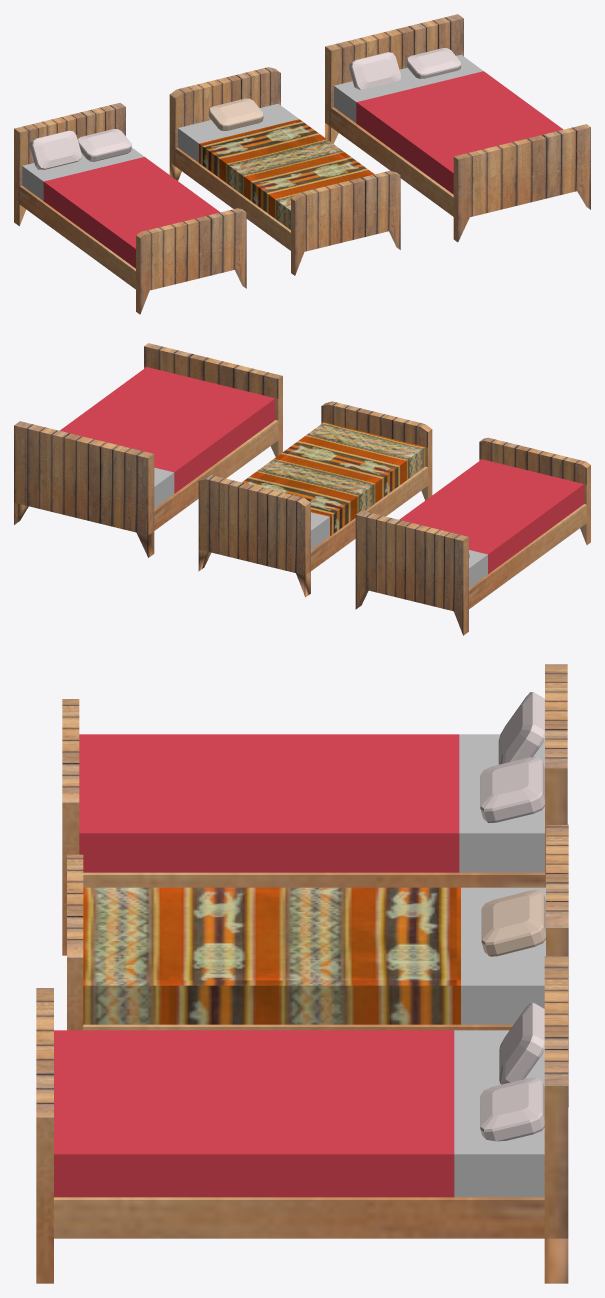
Rendered from Camas.fbx.
3 views of the same model, one above another, from view 1: azimuth 30°, elevation 25°; view 2: azimuth 150°, elevation 25°; view 3: azimuth 270°, elevation 25° (orthographic). The views are drawn at different scales.
Visible parts, largest first — view 1: Cama Tios, Cama Prima, Cama paloma; view 2: Cama Tios, Cama Prima, Cama paloma; view 3: Cama Tios, Cama Prima, Cama paloma.
Boxes of the visible parts, box(x1,y1,x2,y2) form: Cama Tios: box(325, 14, 590, 242); Cama Prima: box(14, 103, 246, 314); Cama paloma: box(169, 67, 400, 275); Cama Tios: box(14, 343, 282, 557); Cama Prima: box(355, 437, 590, 635); Cama paloma: box(198, 401, 432, 597); Cama Tios: box(36, 956, 568, 1283); Cama Prima: box(62, 664, 567, 955); Cama paloma: box(67, 824, 568, 1106).
Bounding box in the file's own units: 8.68 × 1.87 × 4.5.
